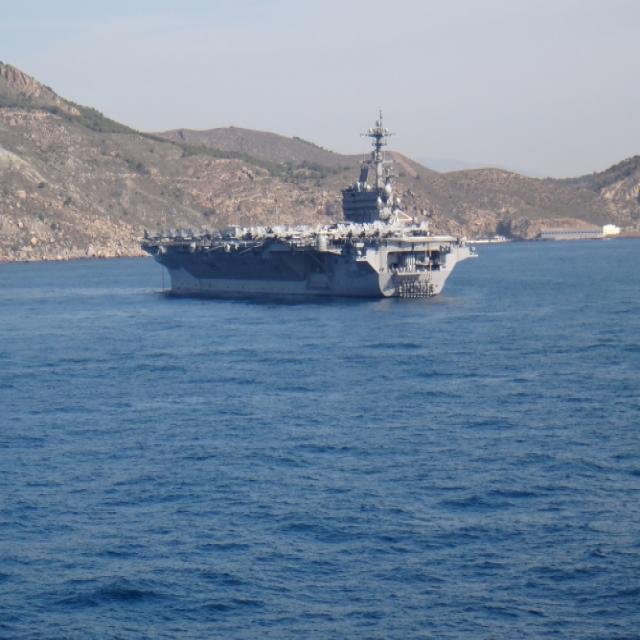Portanaves: (131, 106, 493, 309)
